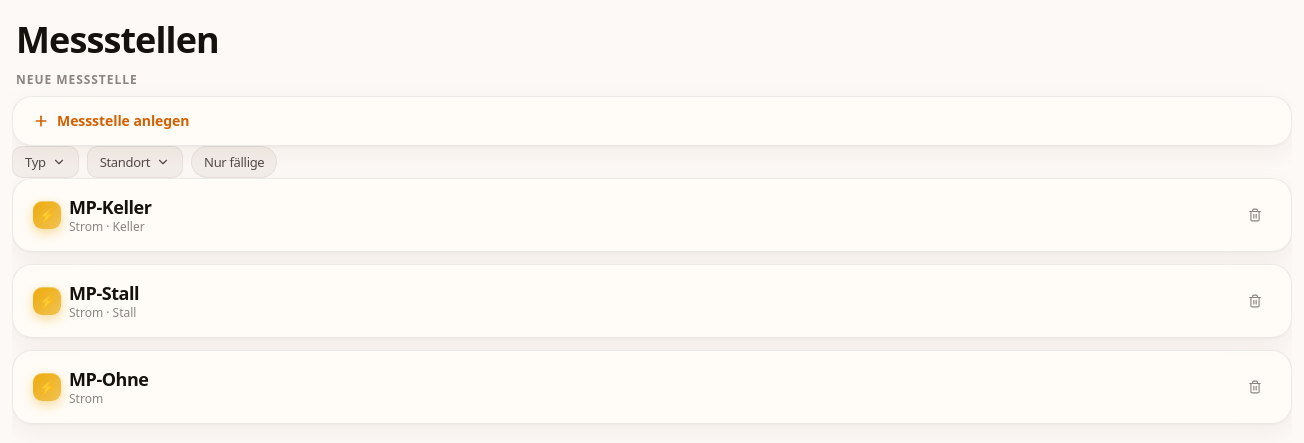
MeasuringPointsAdminPage Wizard › filtert die Liste nach Standort inkl. „ohne Standort"-Option
Expected: the text "MP-Keller" is shown, [69,195,151,219]
Click the button "Standort" at (135, 162), box [87,146,183,178]
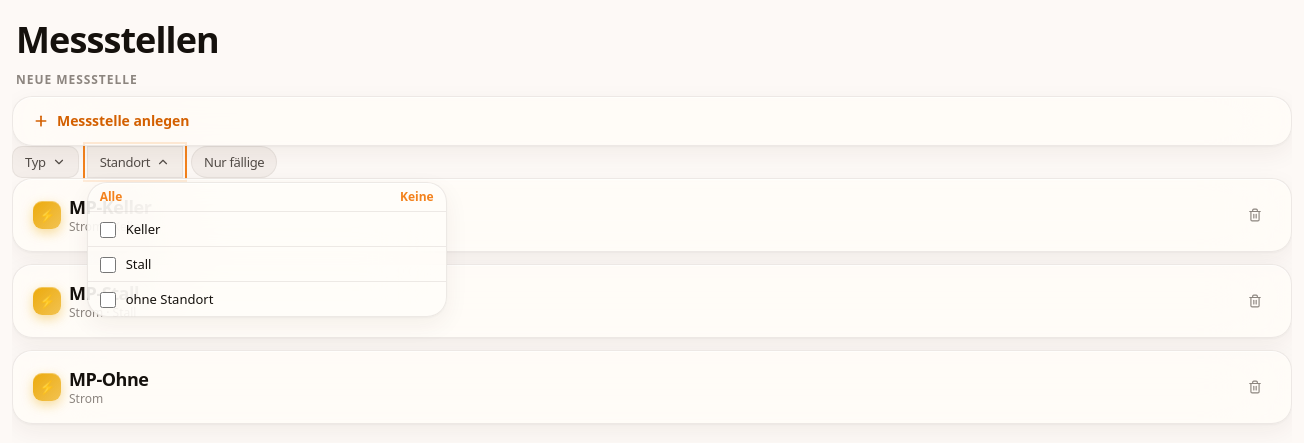
Click the checkbox labelled "Keller" at (108, 230), box [100,222,116,238]
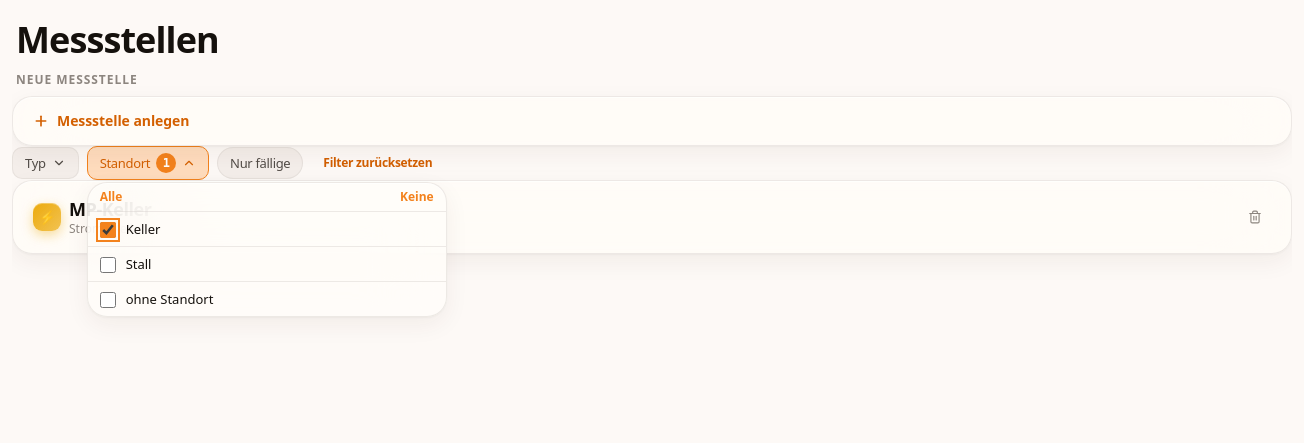
Expected: the text "MP-Keller" is shown, [69,197,151,221]
Result: the link "MP-Stall" is gone
Result: the link "MP-Ohne" is gone
// Umschalten auf „ohne Standort" zeigt nur die MP ohne Standort.
Click the checkbox labelled "Keller" at (108, 230), box [100,222,116,238]
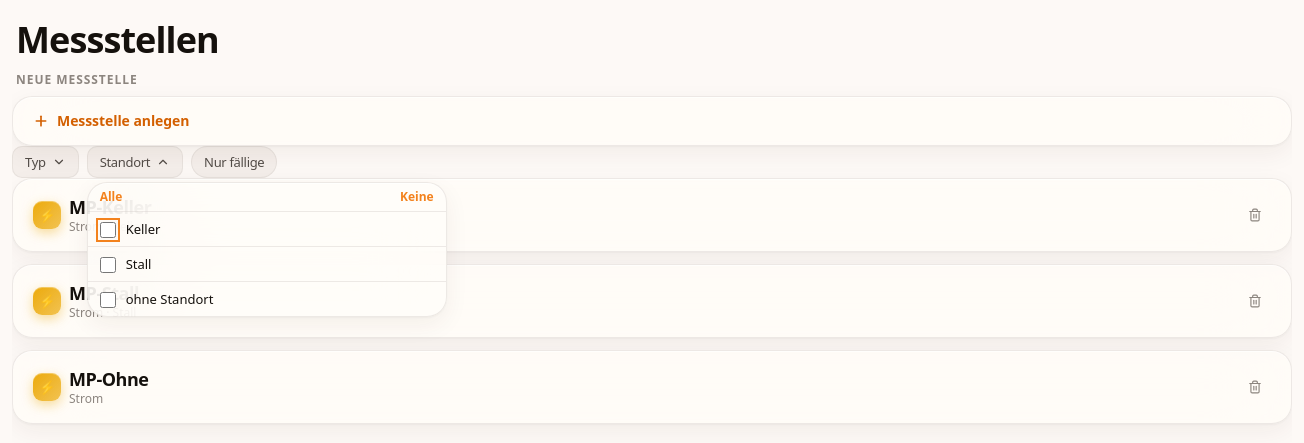
Click the checkbox labelled "ohne Standort" at (108, 300), box [100,292,116,308]
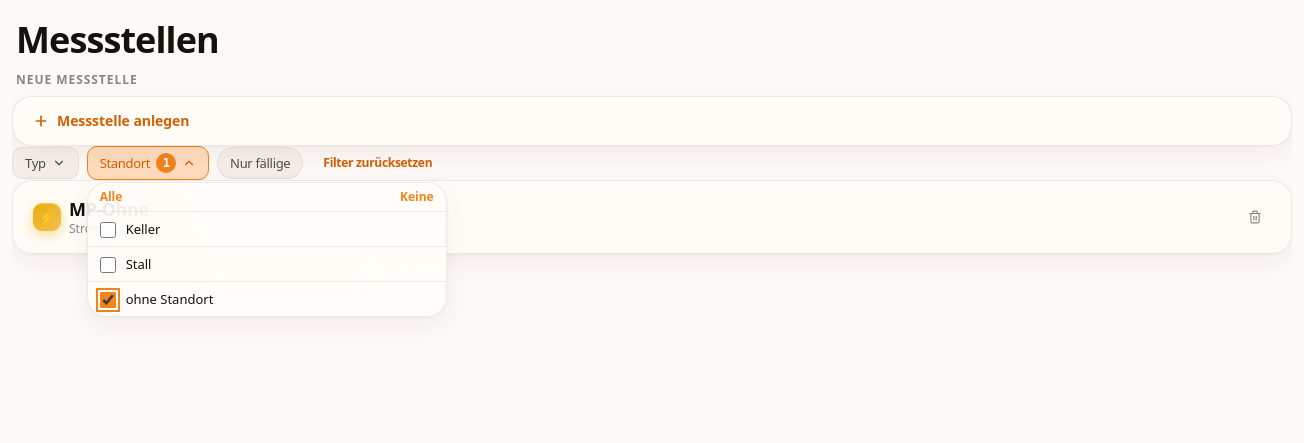
Result: the text "MP-Ohne" is shown at [69,197,148,221]
Result: the link "MP-Keller" is gone
Result: the link "MP-Stall" is gone
Click the button "Filter zurücksetzen" at (378, 163), box [311,147,444,179]
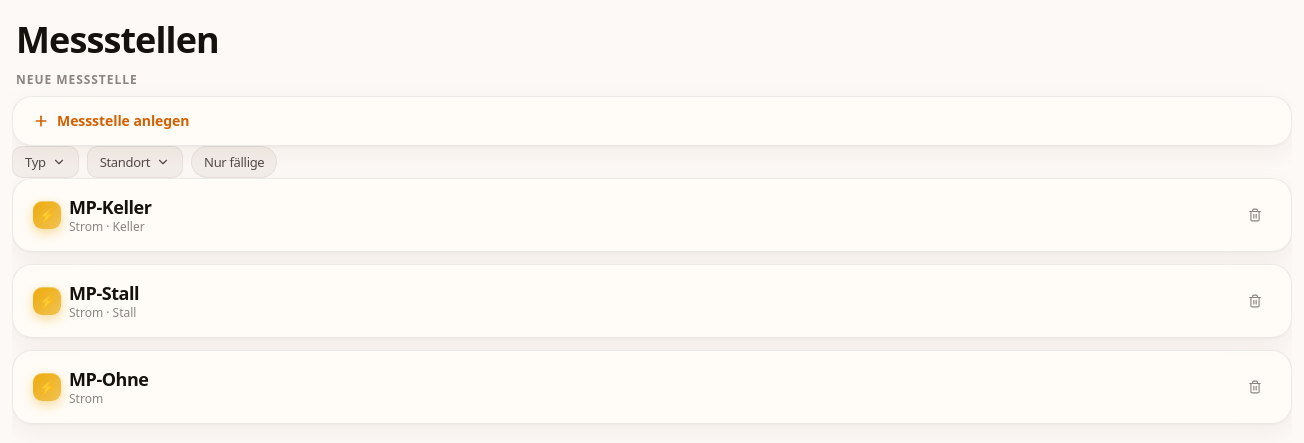
Result: the text "MP-Ohne" is shown at [69,367,148,391]
Result: the text "MP-Keller" is shown at [69,195,151,219]
Result: the text "MP-Stall" is shown at [69,281,139,305]
